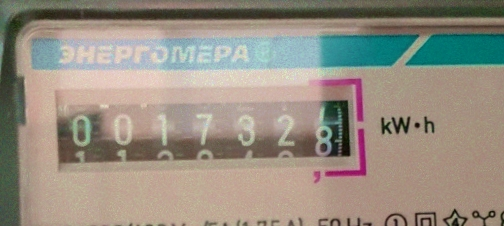0: (70, 111, 93, 149), (111, 112, 132, 146)
1: (154, 110, 170, 147)
2: (273, 112, 295, 149)
3: (233, 112, 257, 148)
7: (191, 109, 215, 148)
8: (311, 123, 332, 158)
screen: (44, 78, 369, 188)
